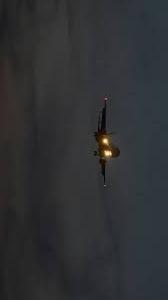Plane: (75, 88, 128, 192)
